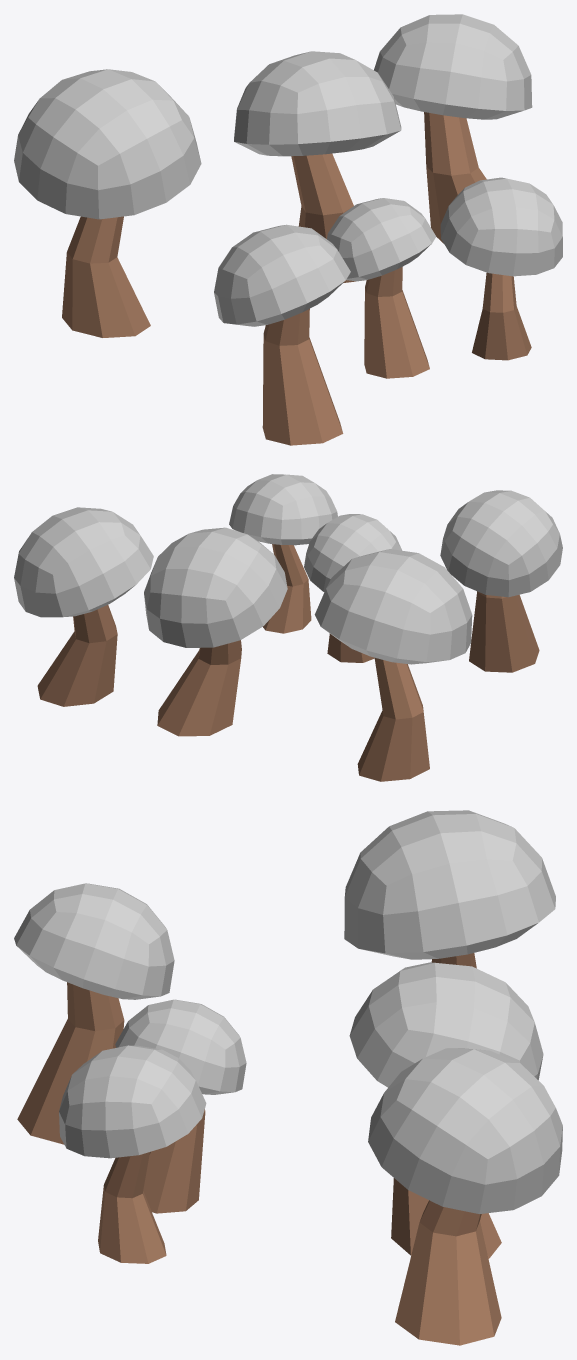
The model's file is mesh_mushrooms_01_white.fbx.
3 views of the same model, one above another, from view 1: azimuth 30°, elevation 25°; view 2: azimuth 150°, elevation 25°; view 3: azimuth 270°, elevation 25° (orthographic). The views are drawn at different scales.
Parts seen in each view (by area): view 1: mesh_mushrooms_01_white_LOD0; view 2: mesh_mushrooms_01_white_LOD0; view 3: mesh_mushrooms_01_white_LOD0.
Part boxes in pixels (x1=…): mesh_mushrooms_01_white_LOD0: x1=14, y1=14, x2=562, y2=445; mesh_mushrooms_01_white_LOD0: x1=14, y1=474, x2=562, y2=781; mesh_mushrooms_01_white_LOD0: x1=14, y1=810, x2=562, y2=1345.
Size of what is drawn, in the model's own units: 0.9346 by 0.4394 by 0.7536.
